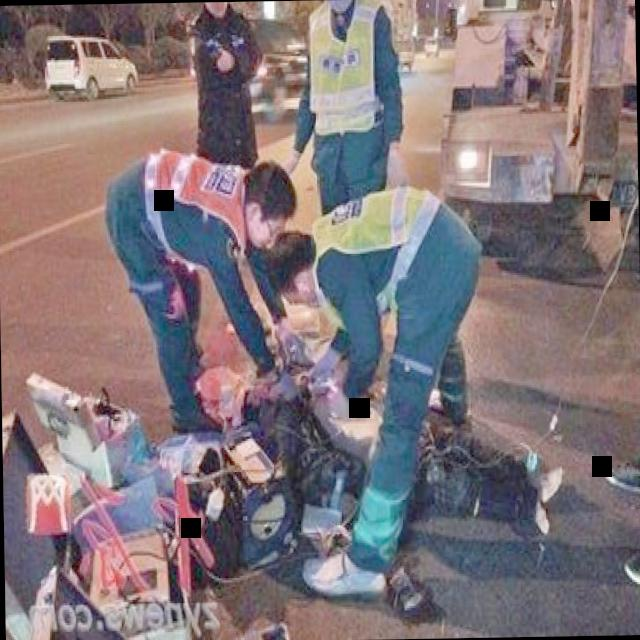Fall-Detected: (206, 331, 581, 582)
